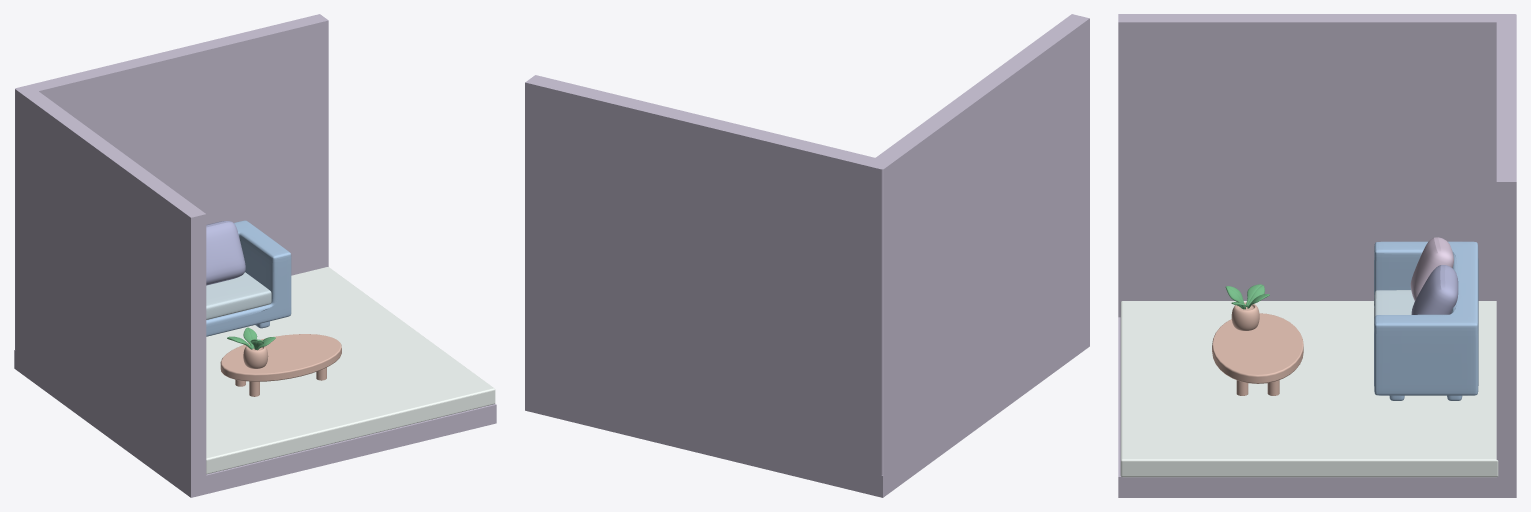
File: basicRoom.glb
3 views of the same model, side by side, from view 1: azimuth 30°, elevation 25°; view 2: azimuth 150°, elevation 25°; view 3: azimuth 270°, elevation 25° (orthographic). The views are drawn at different scales.
Parts seen in each view (by area): view 1: Plane.002, Plane.001, Plane.009, Plane.003; view 2: Plane.002, Plane.009; view 3: Plane.002, Plane.001, Plane.009, Plane.003.
Boxes of the visible parts, x1,y1,x2,y2 form: Plane.002: (15, 14, 496, 496); Plane.001: (206, 267, 495, 474); Plane.009: (14, 220, 496, 497); Plane.003: (220, 334, 341, 381); Plane.002: (525, 14, 1089, 494); Plane.009: (525, 325, 1089, 497); Plane.002: (1118, 14, 1516, 497); Plane.001: (1120, 301, 1498, 477); Plane.009: (1118, 237, 1516, 497); Plane.003: (1212, 313, 1303, 383).
Size of the model in its own units: 4 by 3.5 by 4.
